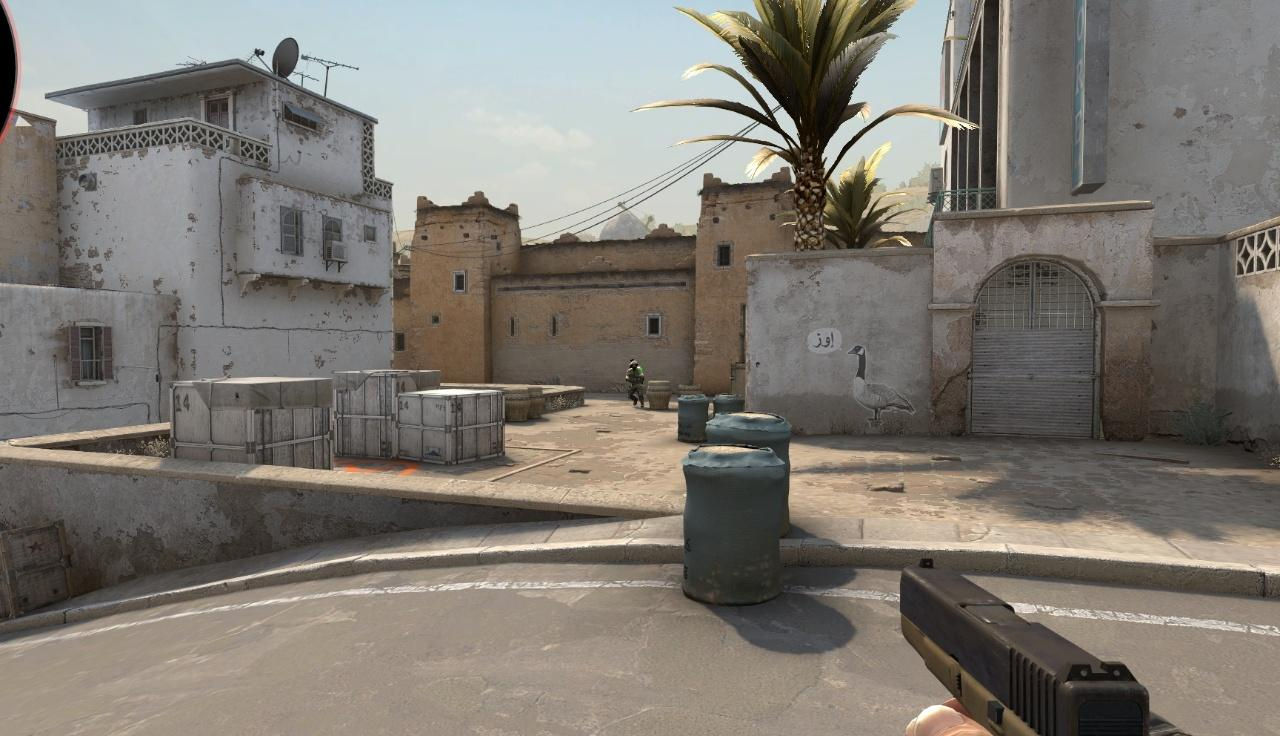ct: (625, 360, 645, 408)
cthead: (631, 361, 637, 369)
pistol: (899, 557, 1280, 736)
